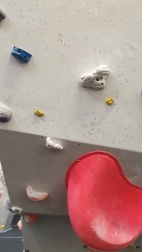Jug: (77, 62, 111, 91), (27, 184, 48, 203), (43, 136, 65, 153)
Pinch: (12, 45, 31, 63)
